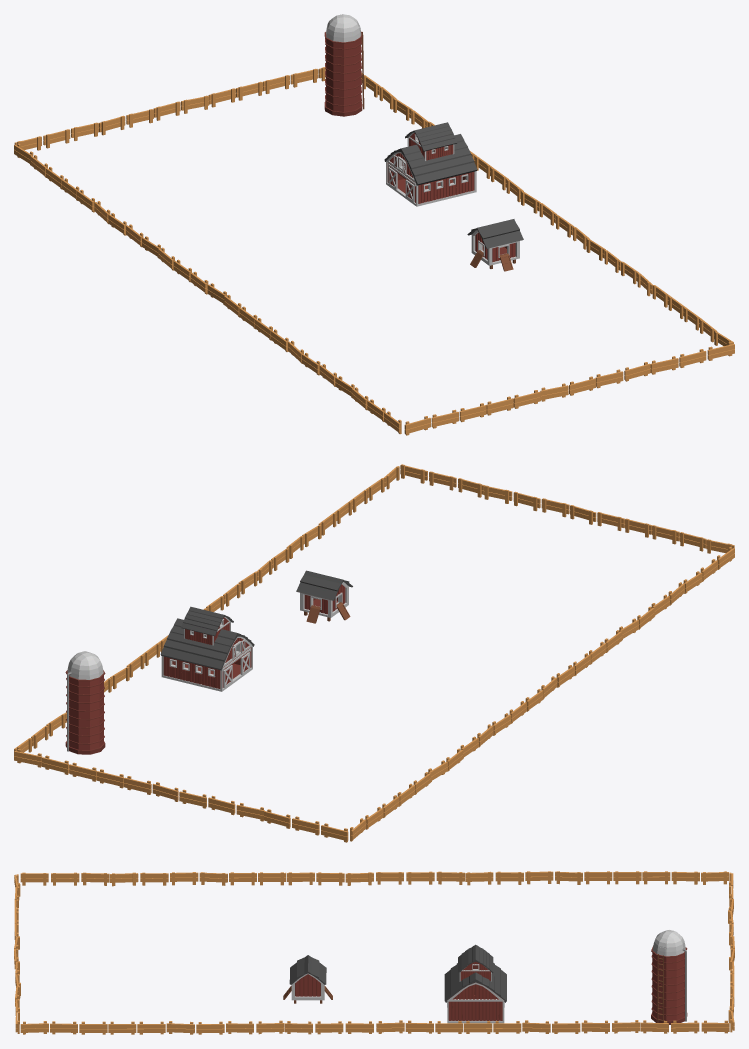
The model's file is farm.glb.
3 renders of one model, top to bottom at view 1: azimuth 30°, elevation 25°; view 2: azimuth 150°, elevation 25°; view 3: azimuth 270°, elevation 25°, orthographic. The views are drawn at different scales.
Visible parts, largest first — view 1: farm; view 2: farm; view 3: farm.
Part boxes in pixels (<box>): farm: <box>14,14,734,435</box>; farm: <box>14,464,734,842</box>; farm: <box>14,871,734,1034</box>.
Size of the model in its own units: 112 by 29.28 by 223.
Materials: 1 (1 with a texture image).
